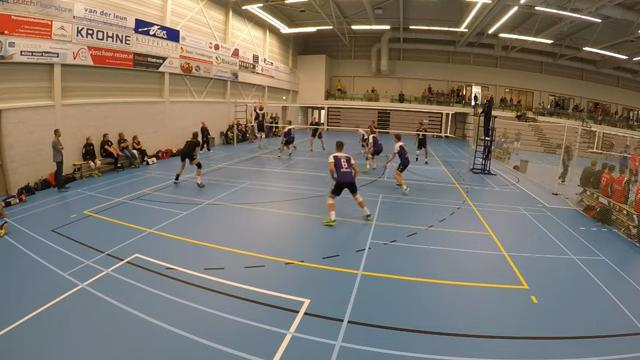muro: (249, 97, 269, 153)
